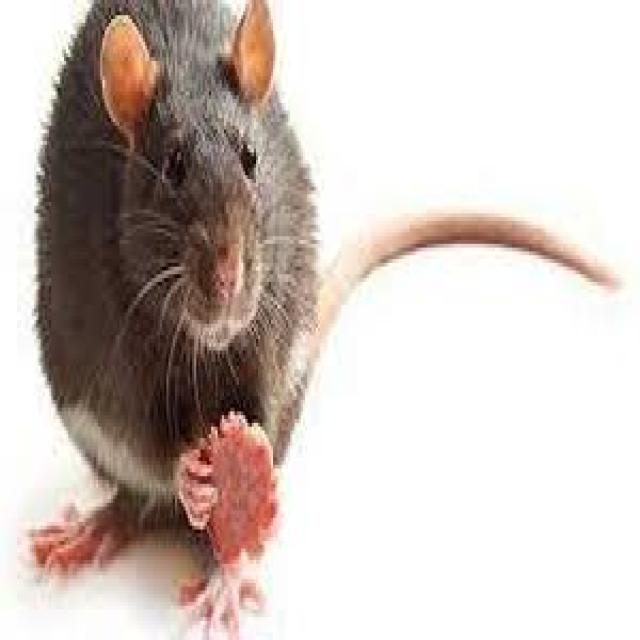rat: (37, 0, 325, 626)
